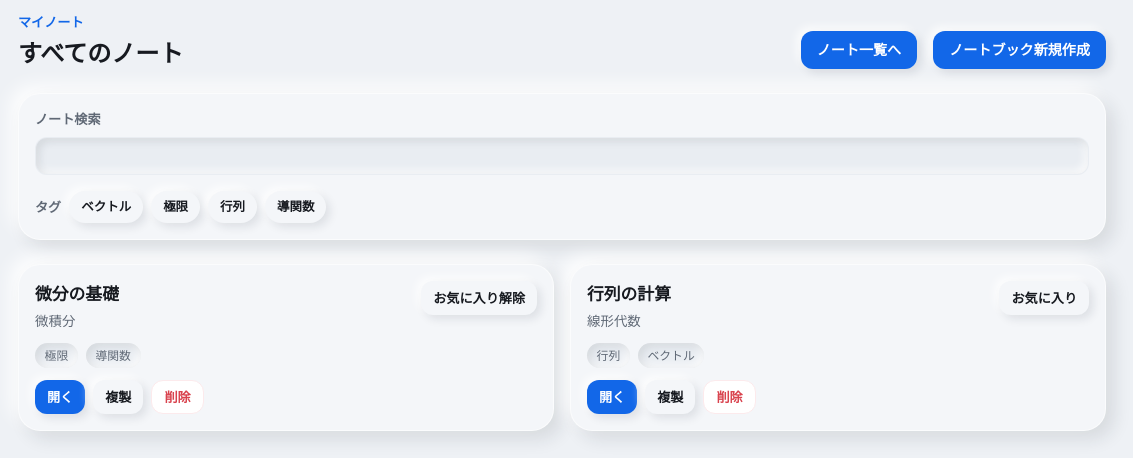
Test: HomePage › タグで絞り込むと見出しをタグ名のノートに切り替える
Click the button with test id "home-tag-filter" showing "行列": (233, 207) [208,191,257,223]
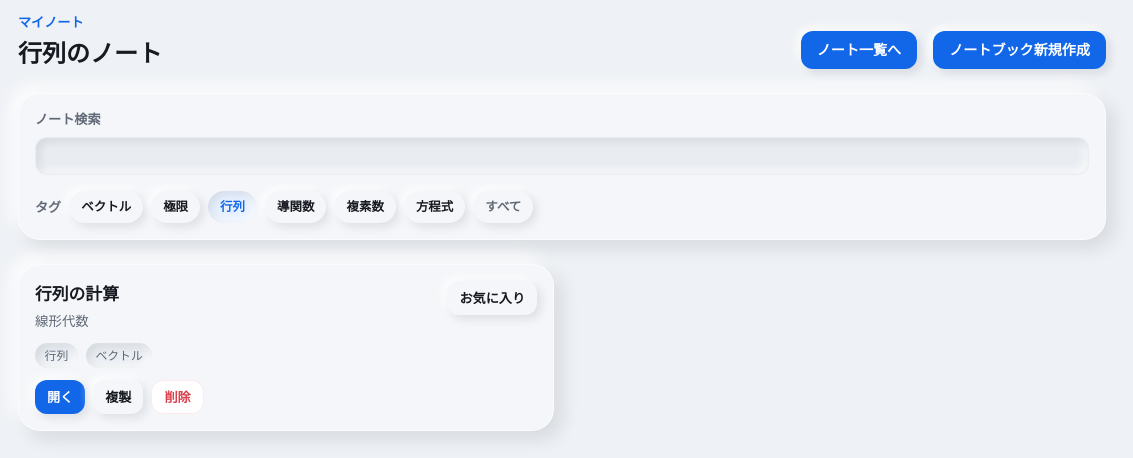
Expected: the text "行列の計算" is shown, [35,281,119,307]
Expected: the text "行列のノート" is shown, [18,37,162,69]
Expected: the text "微分の基礎" is gone
